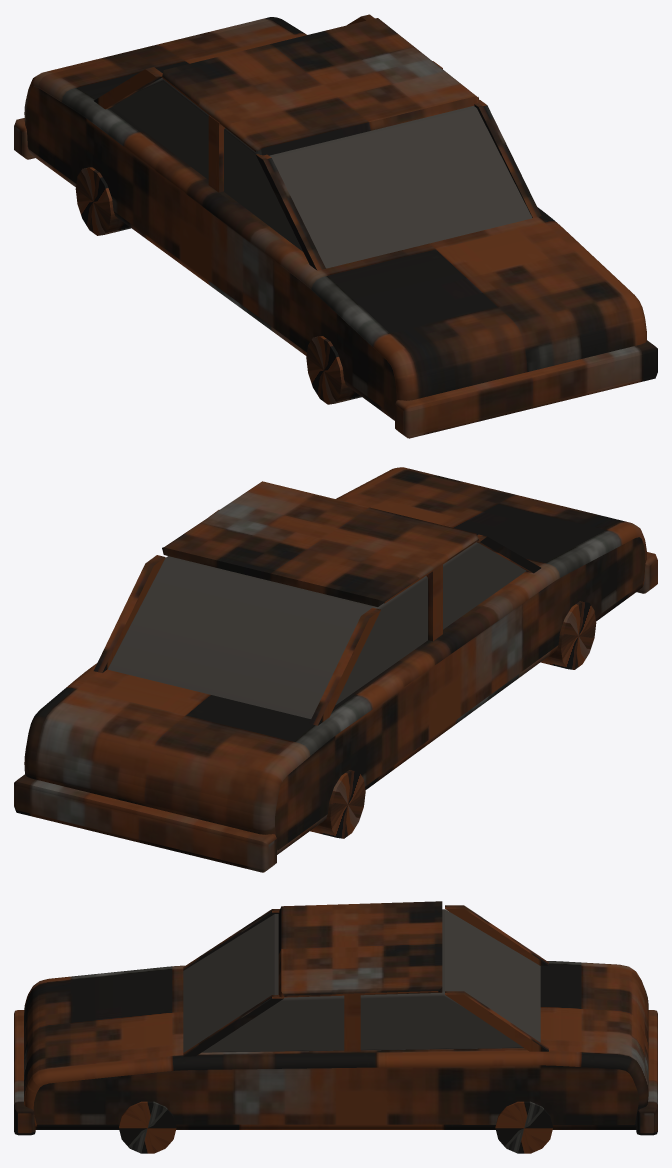
Rendered from car_burnt.glb.
3 views of the same model, one above another, from view 1: azimuth 30°, elevation 25°; view 2: azimuth 150°, elevation 25°; view 3: azimuth 270°, elevation 25° (orthographic). The views are drawn at different scales.
Visible parts, largest first — view 1: model; view 2: model; view 3: model.
Part boxes in pixels (x1,y1,x2,y2): model: (14,14,657,438); model: (14,467,657,872); model: (14,901,657,1153).
Bounding box in the file's own units: 1.76 × 1.29 × 4.72.
3 materials, 2 textured.
